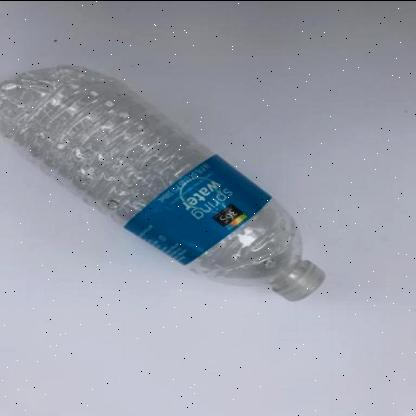Plastic Bottle: (0, 66, 325, 300)
